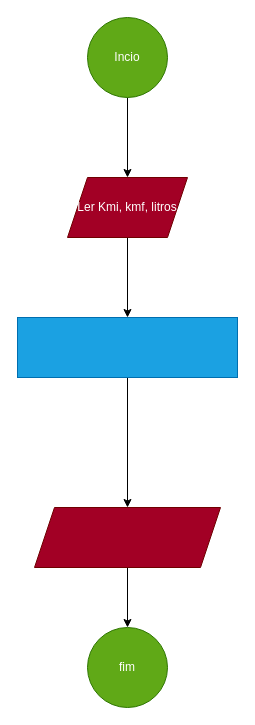
Image size: 255x725. Some labels were removed from this diagram. The shapes that lost their labels are listed below. From the top down, each one's centre as x and y in pixels, then its label:
the point at 127,347: litros_aos_100=litros*100/(kmf-kmi)
the point at 127,537: Escrever litros_aos_100
